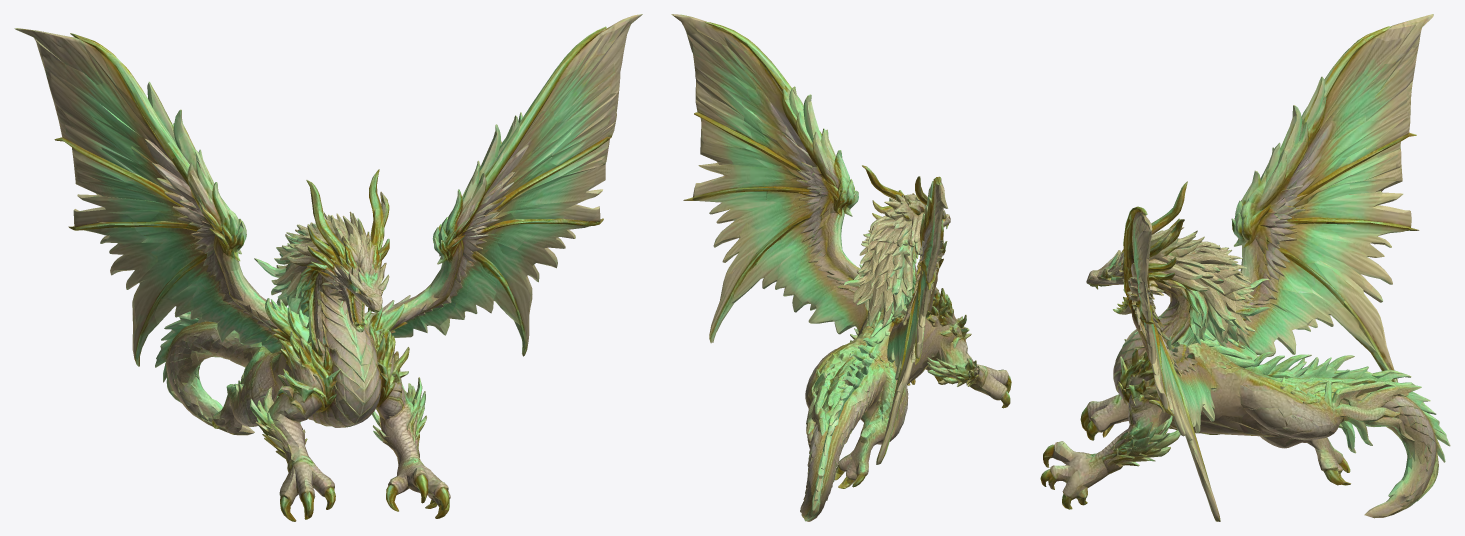
File: ancient_mystic_dragon_white.glb
3 views of the same model, side by side, from view 1: azimuth 30°, elevation 25°; view 2: azimuth 150°, elevation 25°; view 3: azimuth 270°, elevation 25° (orthographic). The views are drawn at different scales.
Bounding box in the file's own units: 1.89 × 1.66 × 1.47.
Materials: 1 (1 with a texture image).
